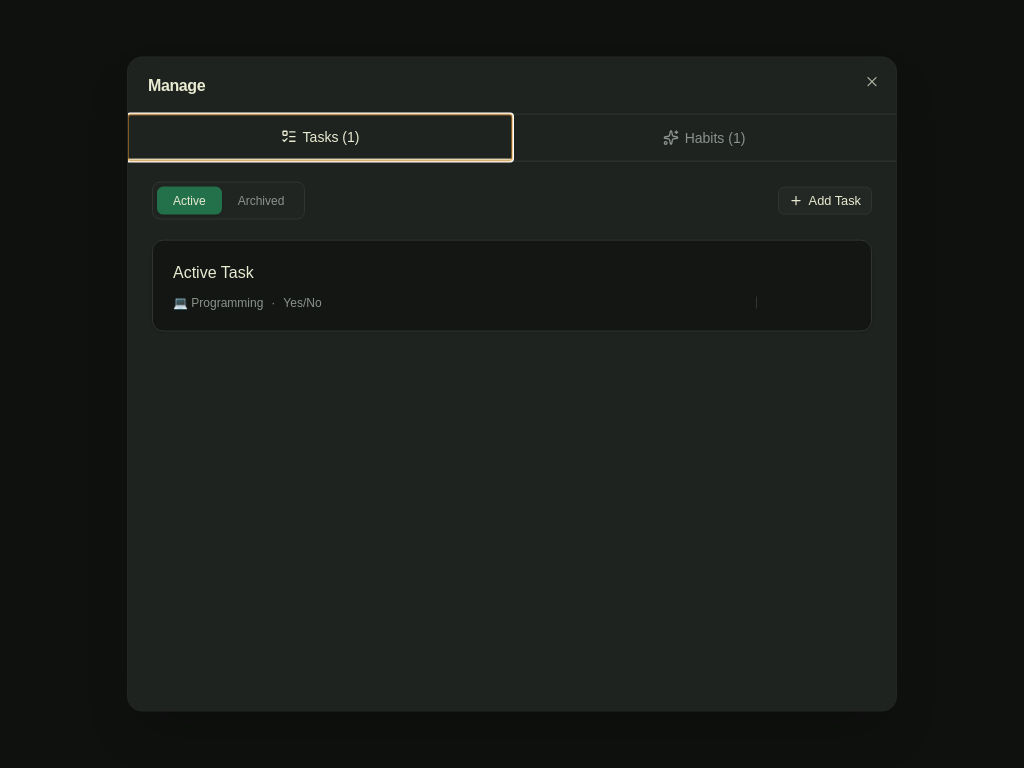
Scenario: ManageModal › filters active and archived tasks
The width and height of the screenshot is (1024, 768).
Expected: the text "Active Task" is shown, [173,264,254,281]
Expected: the text "Archived Task" is not shown
Switch to archived
Click the button "Archived": (261, 201) [222,187,300,215]
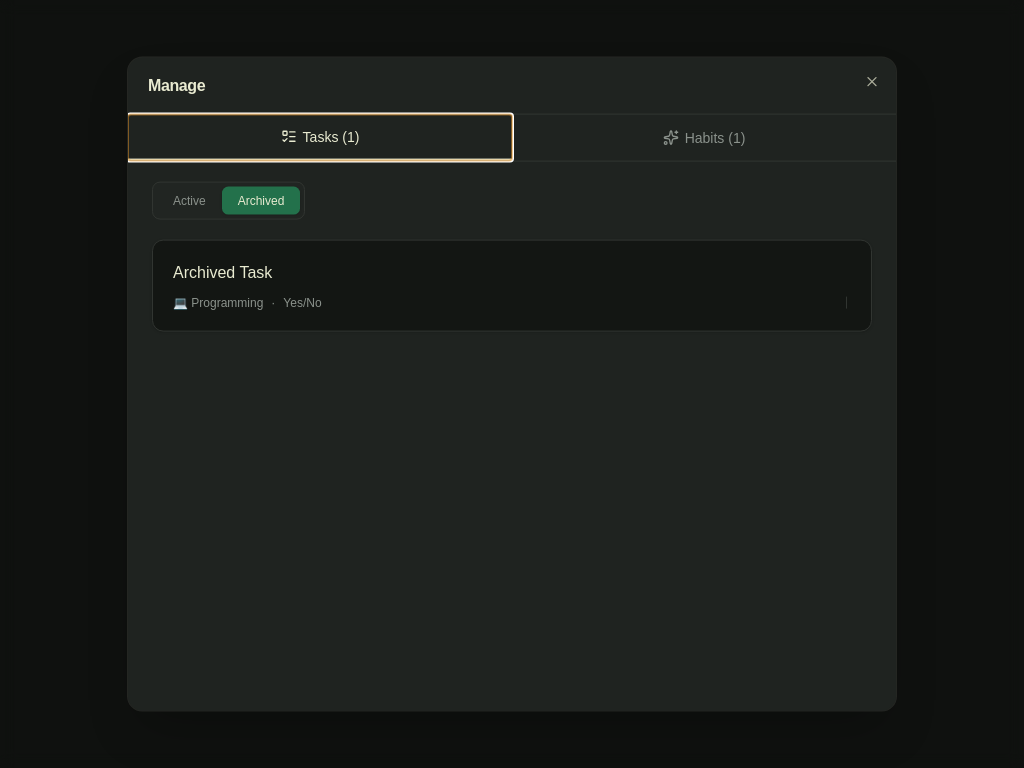
Expected: the text "Archived Task" is shown, [173,264,272,281]
Expected: the text "Active Task" is gone
